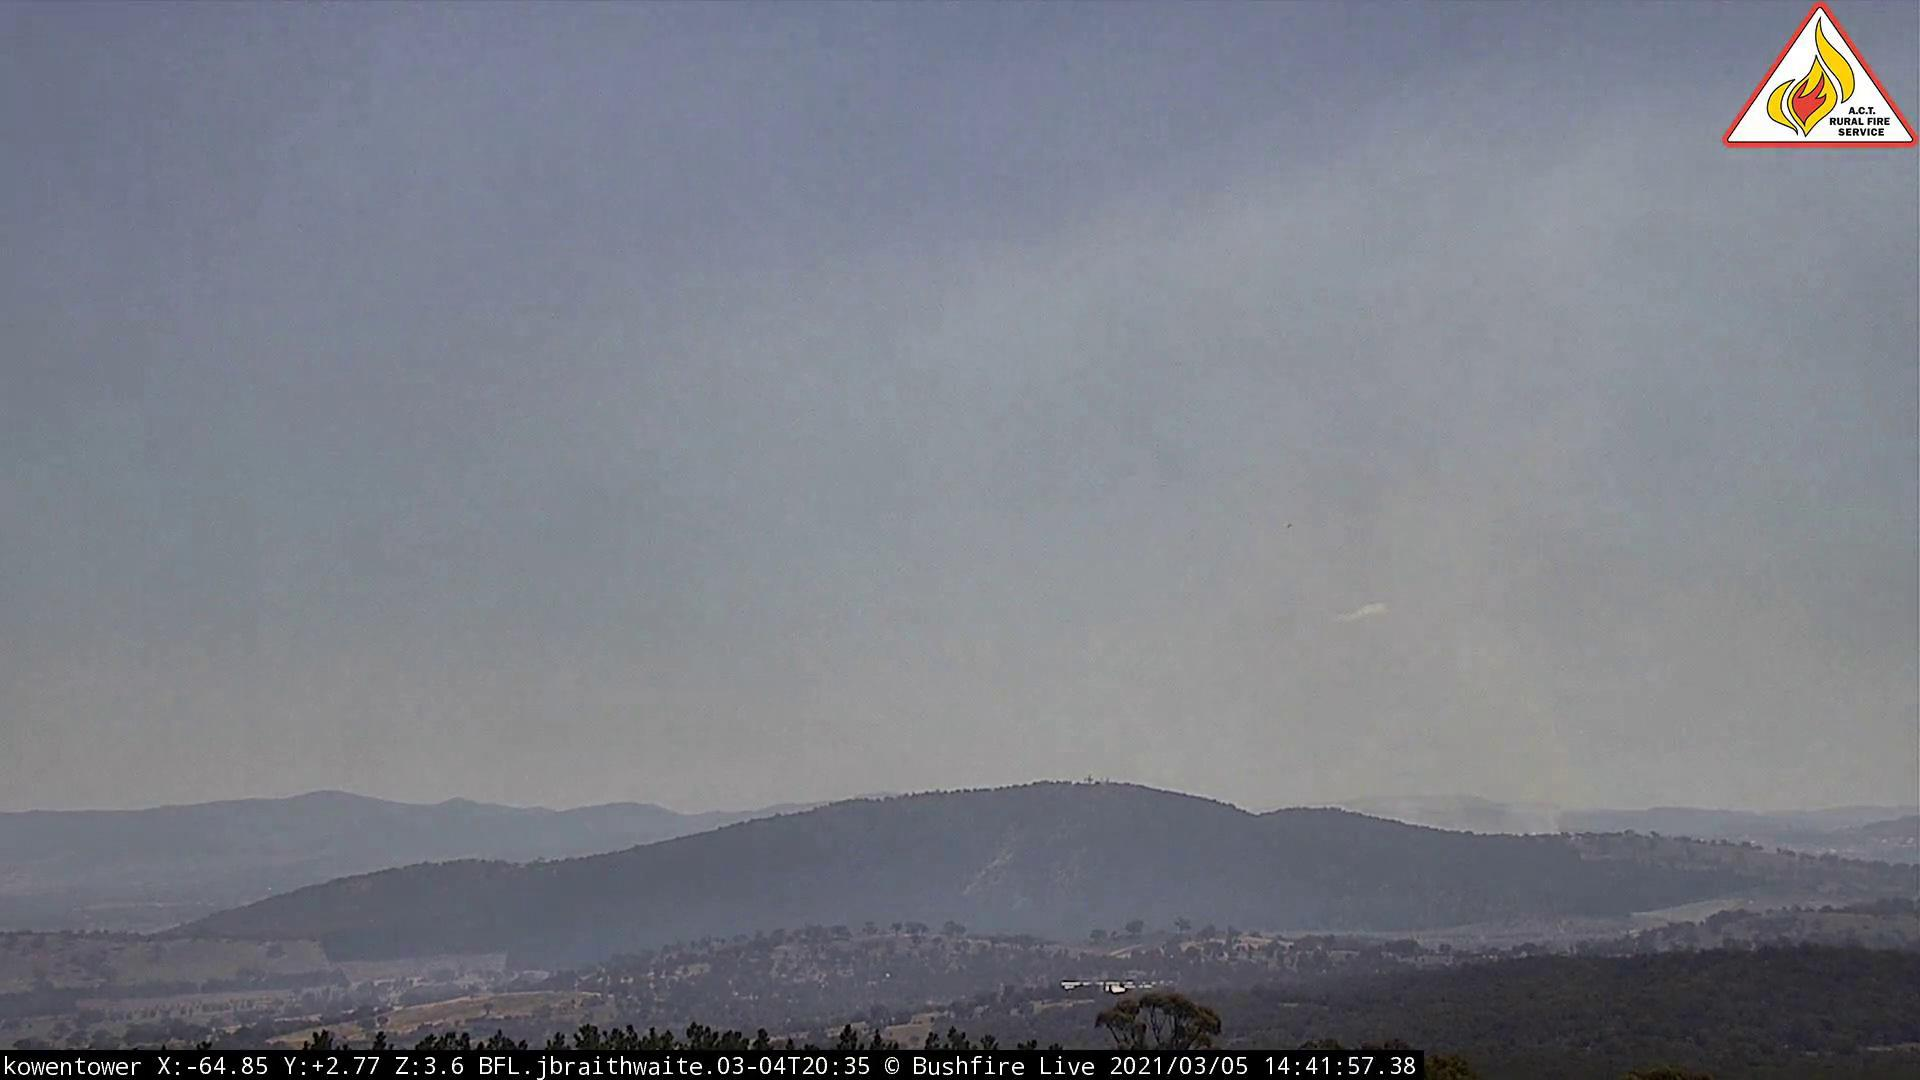instance_salient_object: (1389, 611, 1576, 851)
